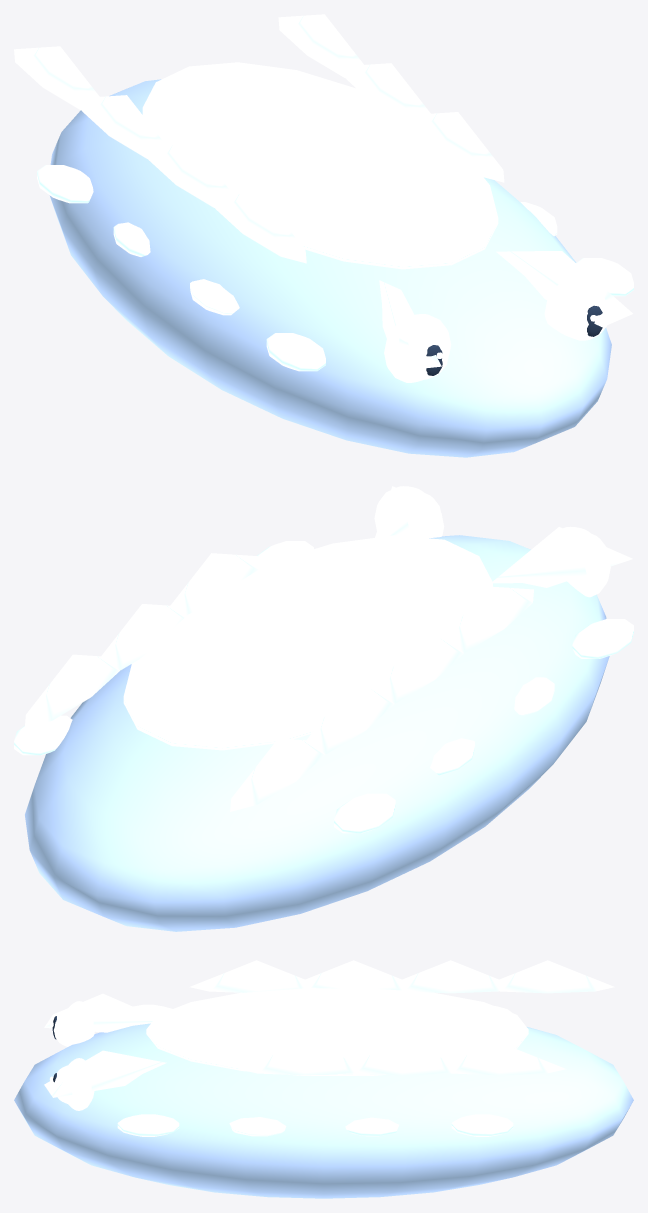
The model's file is bluebell-grazer.glb.
The picture shows the model from 3 angles, top to bottom: view 1: azimuth 30°, elevation 25°; view 2: azimuth 150°, elevation 25°; view 3: azimuth 270°, elevation 25°; orthographic projection. The views are drawn at different scales.
Visible parts, largest first — view 1: body, mantle-glow, cerata-0, swim-fin-1-blade, cerata-6, cerata-5, cerata-4, cerata-2, cerata-1, cerata-3, swim-fin--1-blade, scale--1-0 (+8 smaller); view 2: body, mantle-glow, swim-fin--1-blade, cerata-5, cerata-6, cerata-0, cerata-2, cerata-4, cerata-3, cerata-1, scale--1-3, scale--1-0 (+7 smaller); view 3: body, mantle-glow, cerata-5, swim-fin-1-blade, cerata-1, cerata-6, cerata-3, cerata-0, cerata-4, cerata-2, swim-fin--1-blade, scale-1-0 (+6 smaller).
Boxes of the visible parts, <box> form: body: <box>49,79,611,457</box>; mantle-glow: <box>142,62,498,269</box>; cerata-0: <box>215,192,306,263</box>; swim-fin-1-blade: <box>496,251,632,327</box>; cerata-6: <box>14,46,99,110</box>; cerata-5: <box>278,14,363,78</box>; cerata-4: <box>81,95,166,159</box>; cerata-2: <box>148,144,232,207</box>; cerata-1: <box>416,112,504,182</box>; cerata-3: <box>346,63,430,123</box>; swim-fin--1-blade: <box>379,280,441,371</box>; scale--1-0: <box>266,333,325,371</box>; body: <box>25,535,609,931</box>; mantle-glow: <box>123,535,492,750</box>; swim-fin--1-blade: <box>493,527,632,587</box>; cerata-5: <box>24,654,119,727</box>; cerata-6: <box>230,738,325,811</box>; cerata-0: <box>445,586,533,652</box>; cerata-2: <box>376,637,463,703</box>; cerata-4: <box>307,687,394,754</box>; cerata-3: <box>101,604,185,670</box>; cerata-1: <box>170,553,259,615</box>; scale--1-3: <box>334,793,395,833</box>; scale--1-0: <box>572,619,633,658</box>; body: <box>14,1023,633,1198</box>; mantle-glow: <box>146,988,528,1075</box>; cerata-5: <box>450,1042,566,1075</box>; swim-fin-1-blade: <box>44,1050,166,1097</box>; cerata-1: <box>238,1042,353,1075</box>; cerata-6: <box>499,960,614,993</box>; cerata-3: <box>353,1042,450,1075</box>; cerata-0: <box>189,960,304,992</box>; cerata-4: <box>402,960,499,993</box>; cerata-2: <box>305,960,402,990</box>; swim-fin--1-blade: <box>44,993,155,1032</box>; scale-1-0: <box>117,1114,179,1136</box>.
Size of the model in its own units: 1.16 by 0.705 by 2.3.
